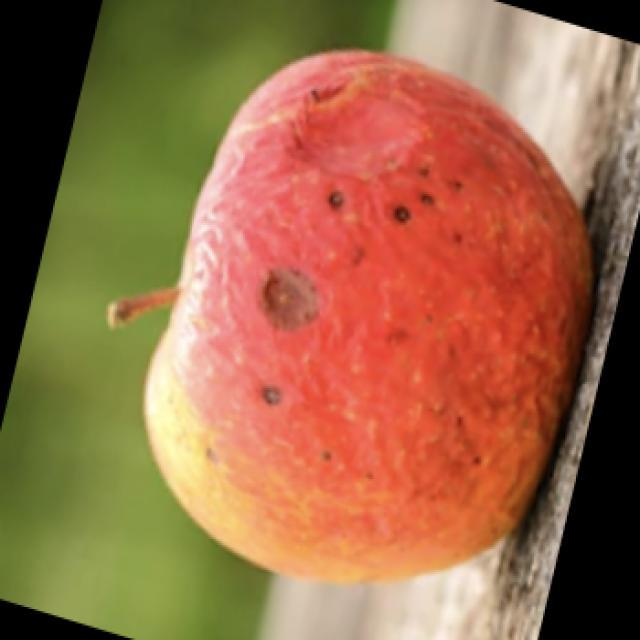Rotten: (150, 53, 583, 602)
